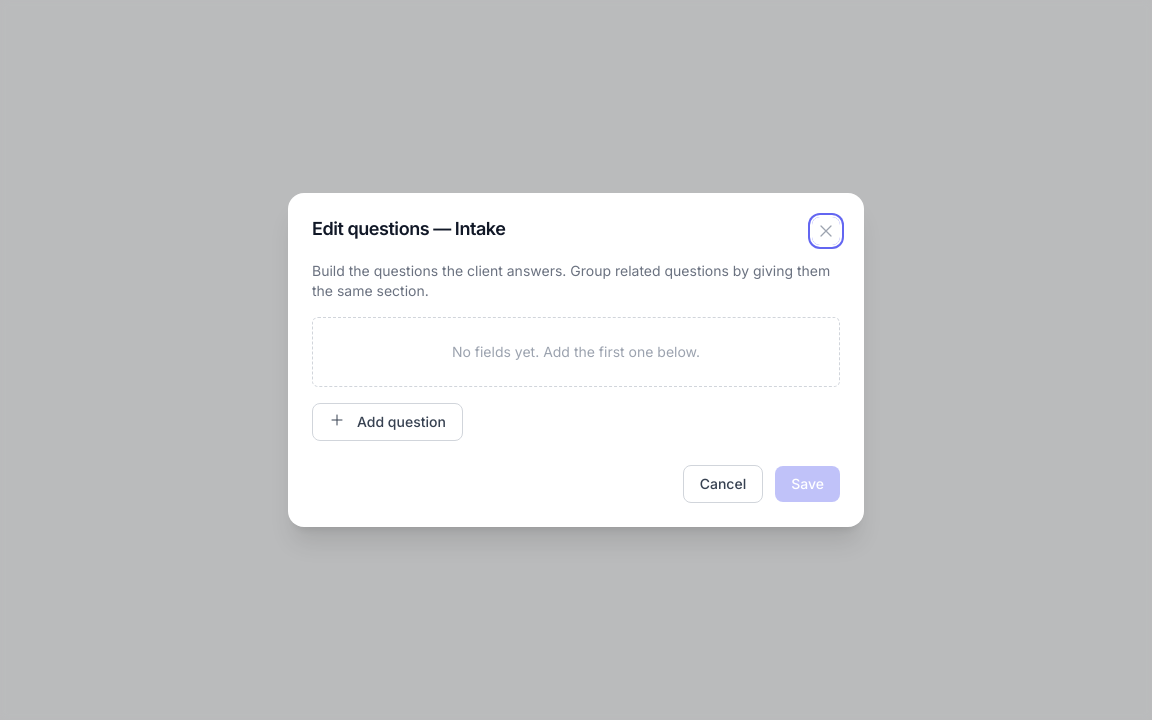
Test: OnboardingFormBuilder › blocks save until every field has a label
Click the button "Add question".
click(387, 422)  # box [312, 403, 463, 441]
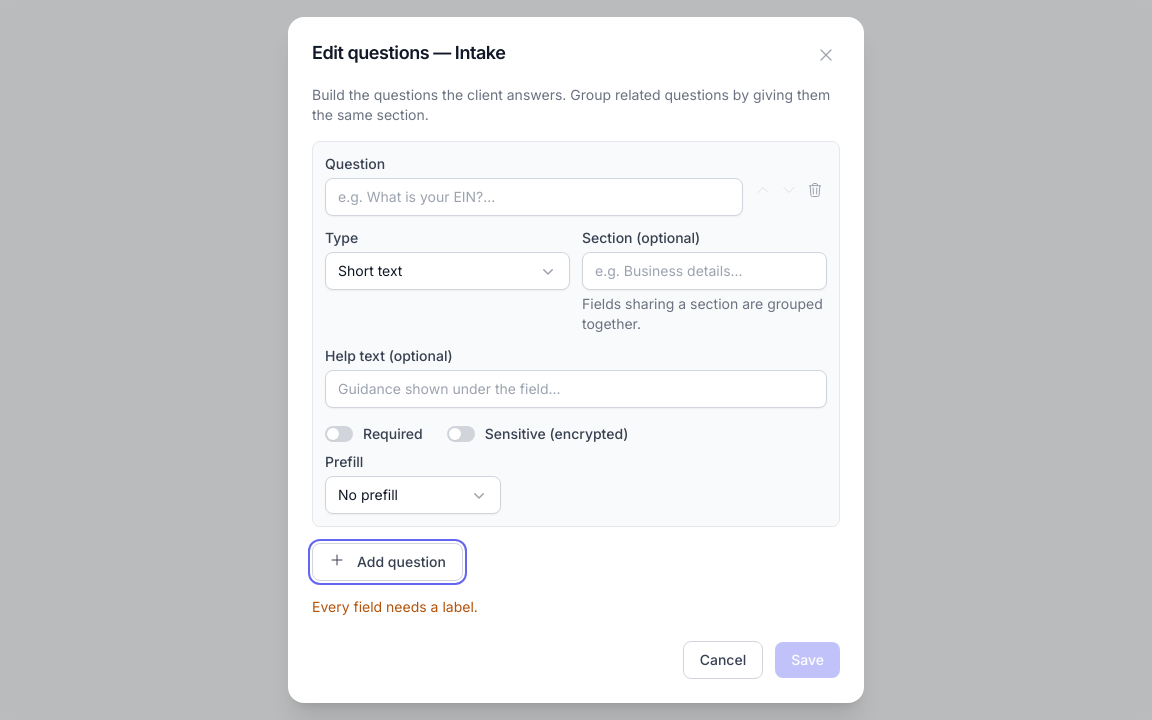
Expected: the button "Save" is disabled, [775, 642, 840, 678]
Result: the text "Every field needs a label." is shown at [312, 598, 478, 615]
